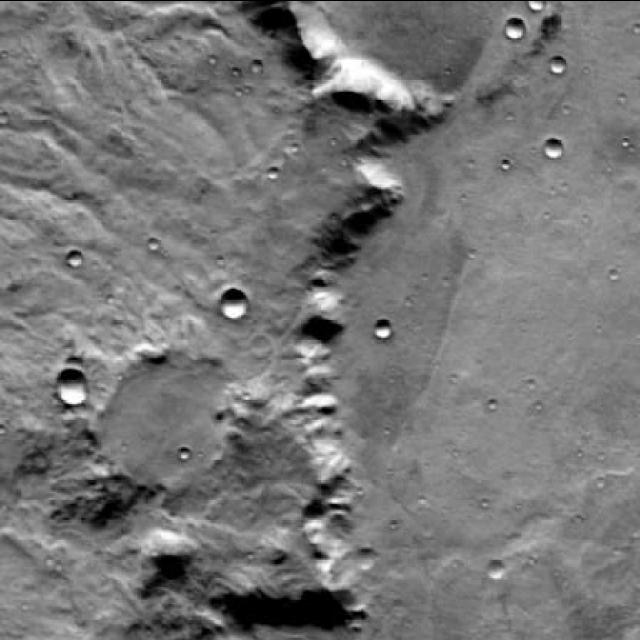crater: (95, 350, 231, 492), (54, 369, 88, 405), (218, 288, 247, 320), (504, 16, 526, 38), (356, 548, 378, 570), (485, 562, 503, 581), (544, 138, 562, 156), (374, 318, 392, 336), (68, 250, 84, 268), (550, 54, 566, 72), (524, 0, 544, 13)
